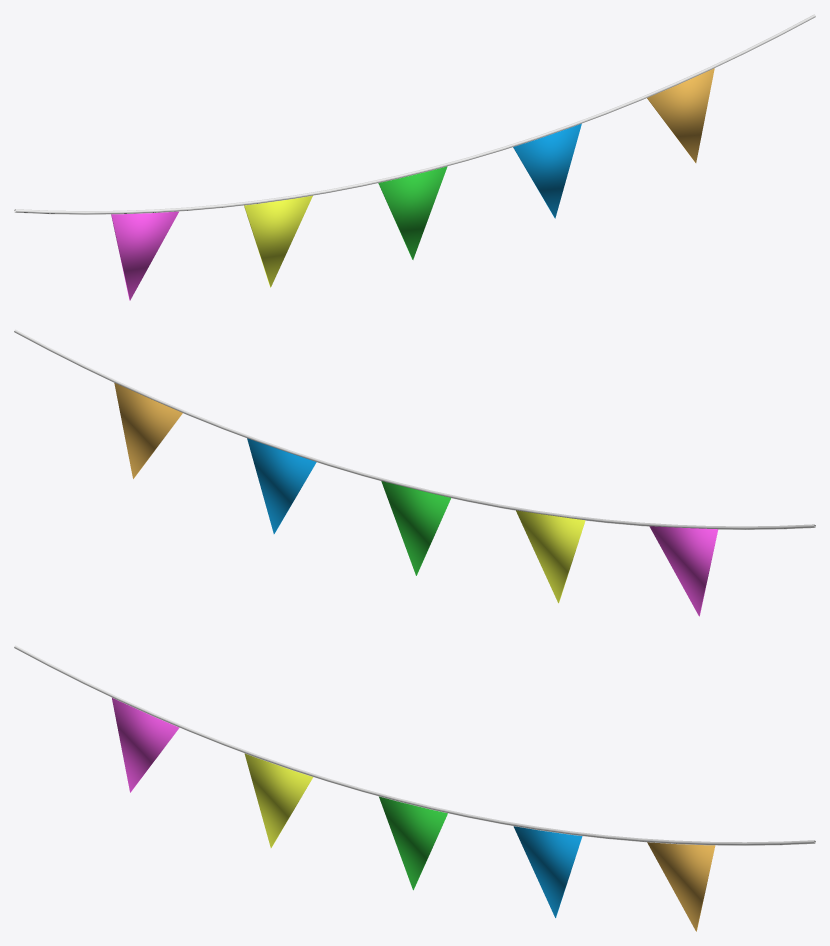
Rendered from BuntingFlagShort.fbx.
3 views of the same model, one above another, from view 1: azimuth 30°, elevation 25°; view 2: azimuth 150°, elevation 25°; view 3: azimuth 330°, elevation 25° (orthographic).
Parts seen in each view (by area): view 1: BuntingFlagShort_Geo; view 2: BuntingFlagShort_Geo; view 3: BuntingFlagShort_Geo.
Part boxes in pixels (bbox=[...]): BuntingFlagShort_Geo: bbox=[14, 14, 815, 300]; BuntingFlagShort_Geo: bbox=[14, 329, 815, 616]; BuntingFlagShort_Geo: bbox=[14, 645, 815, 931].
Size of the model in its own units: 1663 by 294 by 6.95.
